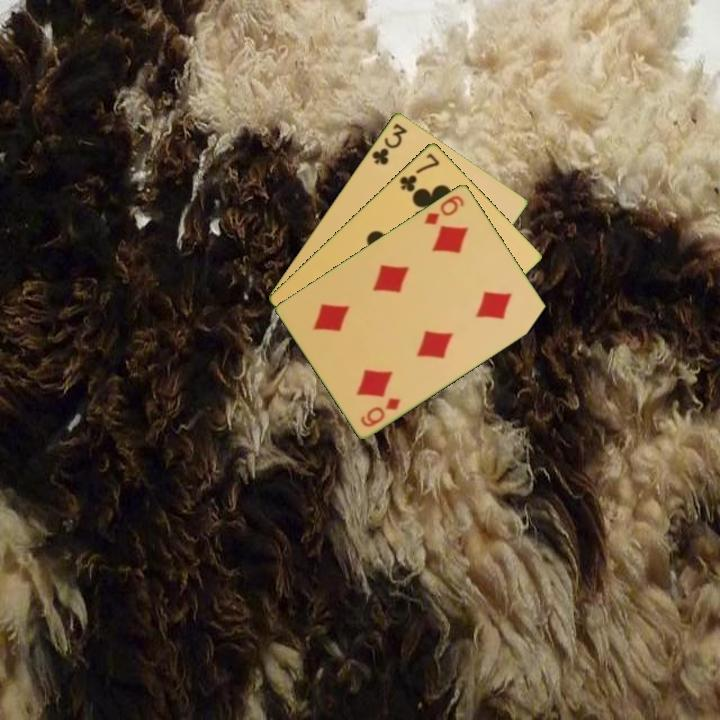3c: (368, 119, 410, 168)
6d: (357, 393, 404, 430), (421, 191, 467, 228)
7c: (396, 149, 442, 195)
